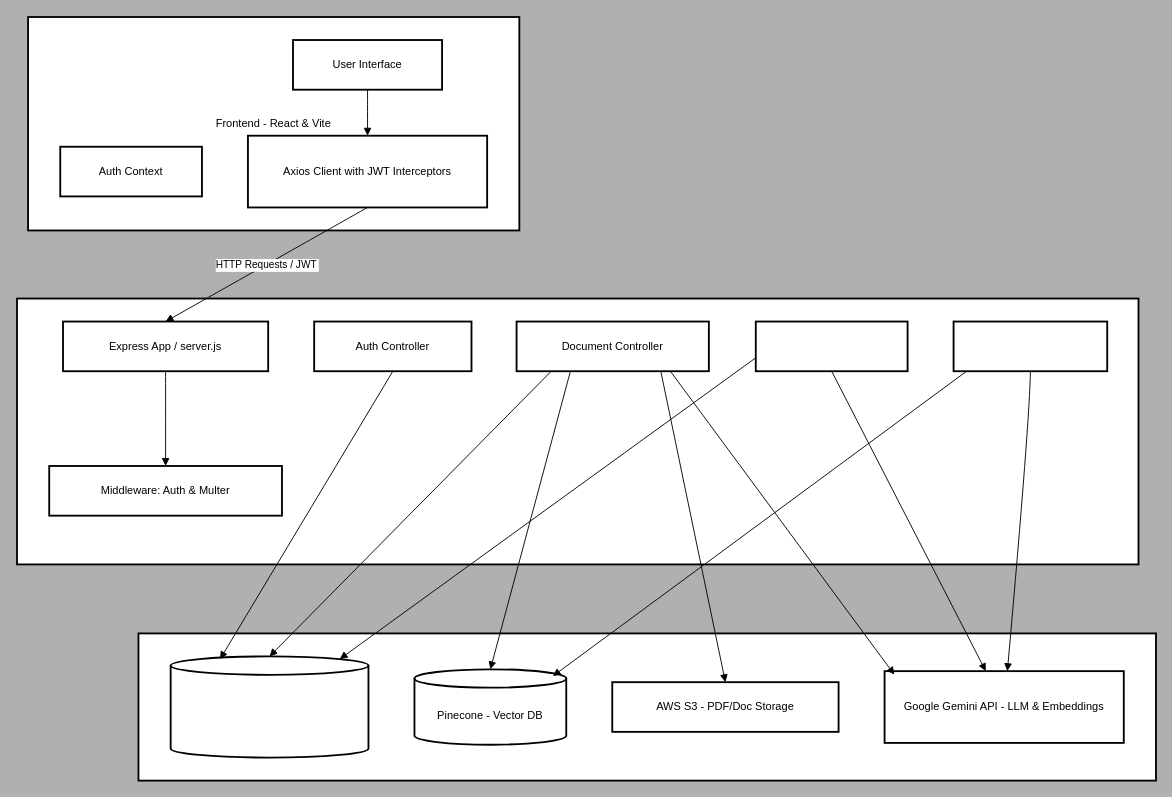
The diagram is 1172 pixels wide and 797 high, and some of its shapes have lost their labels. Here are the shapes that lost their labels. From the top down, the box of each, then its label:
(754, 320, 908, 372): LLM Controller
(952, 320, 1108, 372): RAG Controller
(16, 297, 1139, 565): Backend - Node.js / Express
(169, 655, 369, 758): PostgreSQL - Metadata/Notes
(137, 632, 1156, 781): Databases & External APIs
